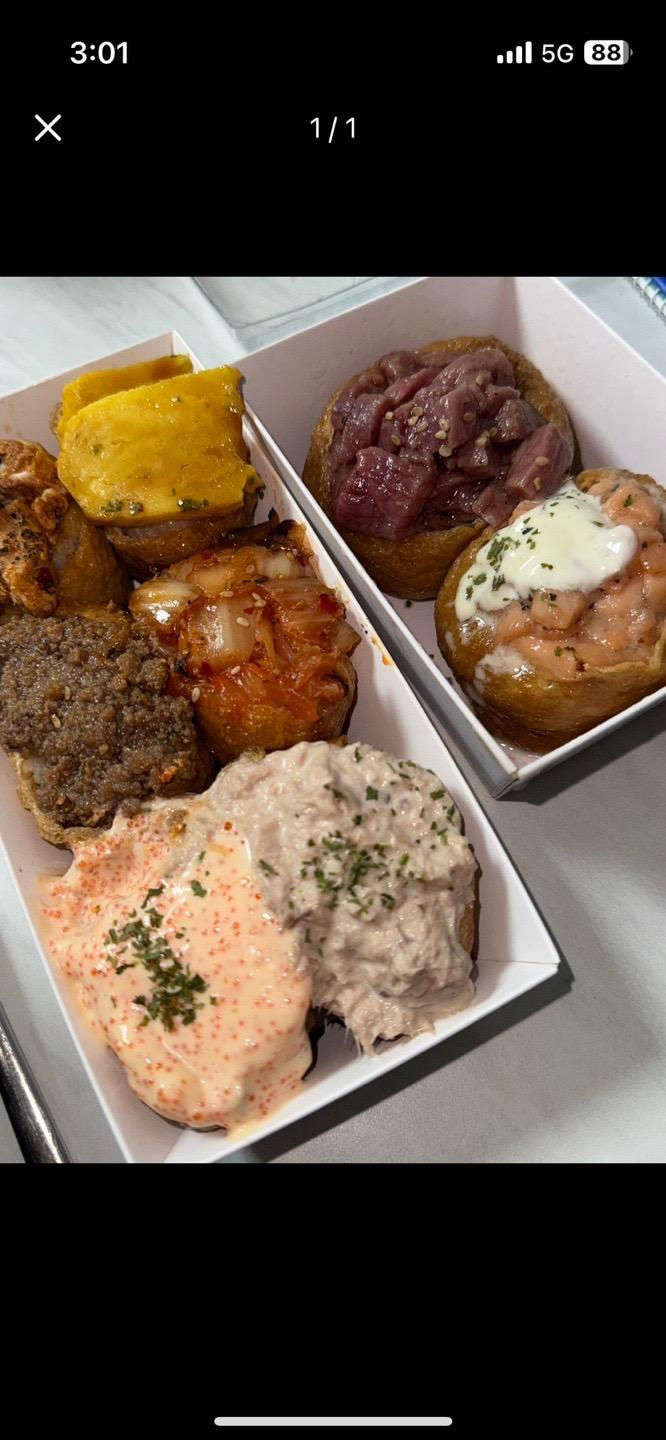Lunch Box: (0, 333, 558, 1162), (245, 278, 665, 795)
